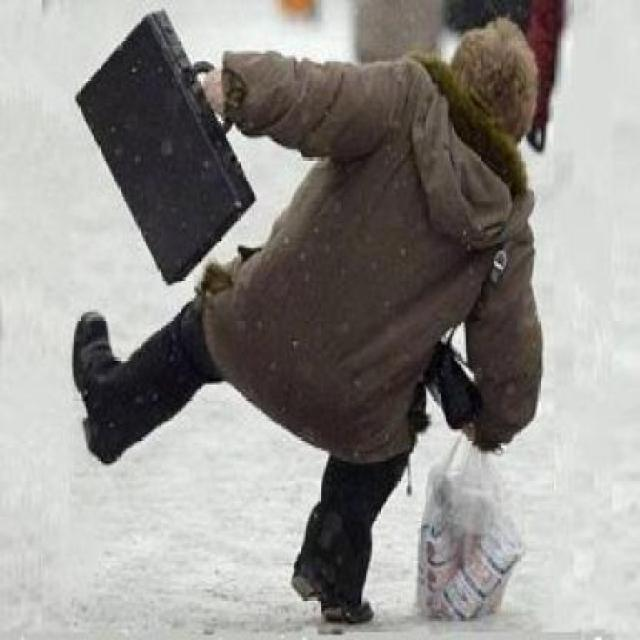fall: (60, 18, 535, 638)
